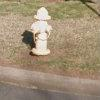Hydrant: (22, 3, 62, 59)
